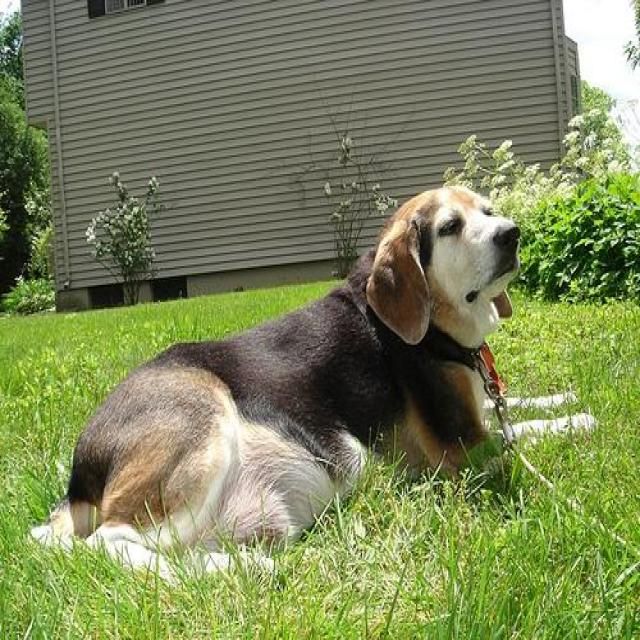beagle: (28, 188, 598, 582)
